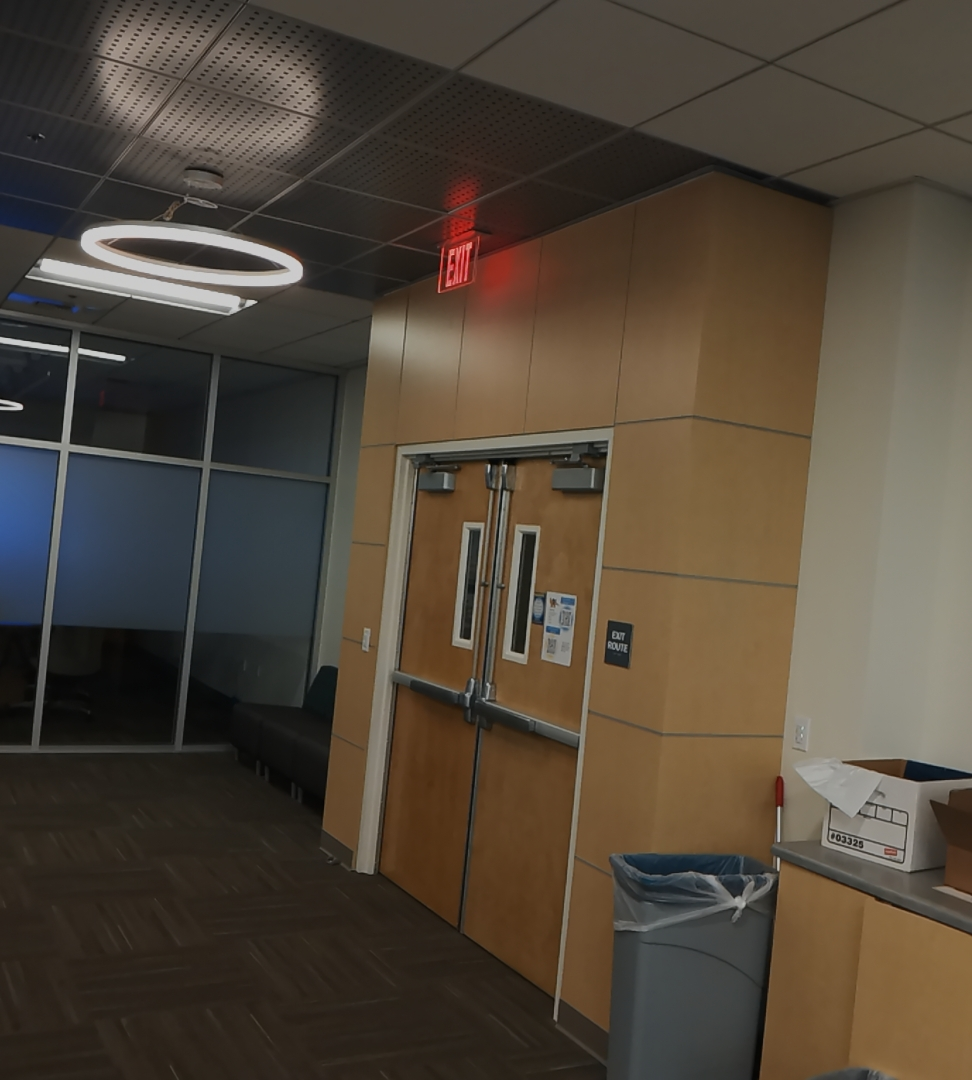emergency_exit: (434, 174, 483, 295), (435, 232, 481, 294)
